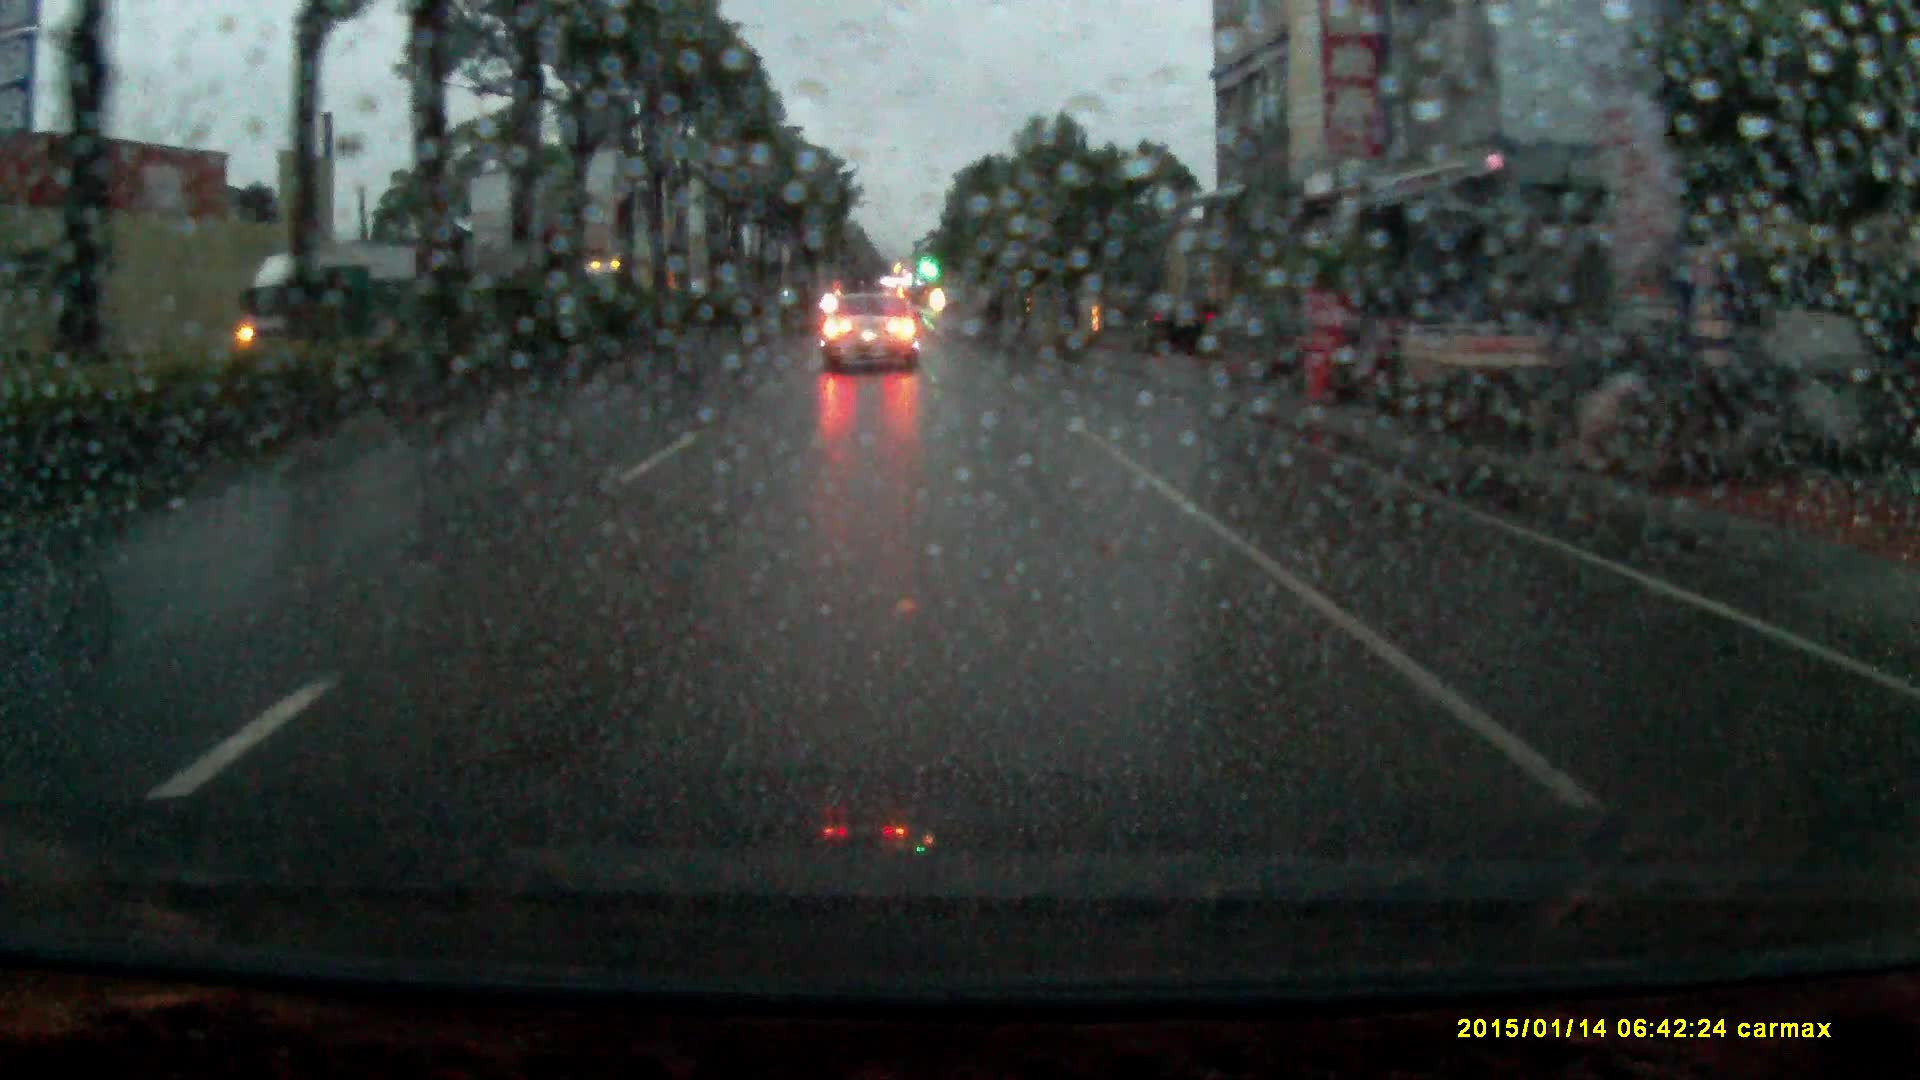vehicle: (237, 247, 419, 353), (822, 291, 923, 377), (1127, 294, 1220, 361), (582, 266, 658, 295)
